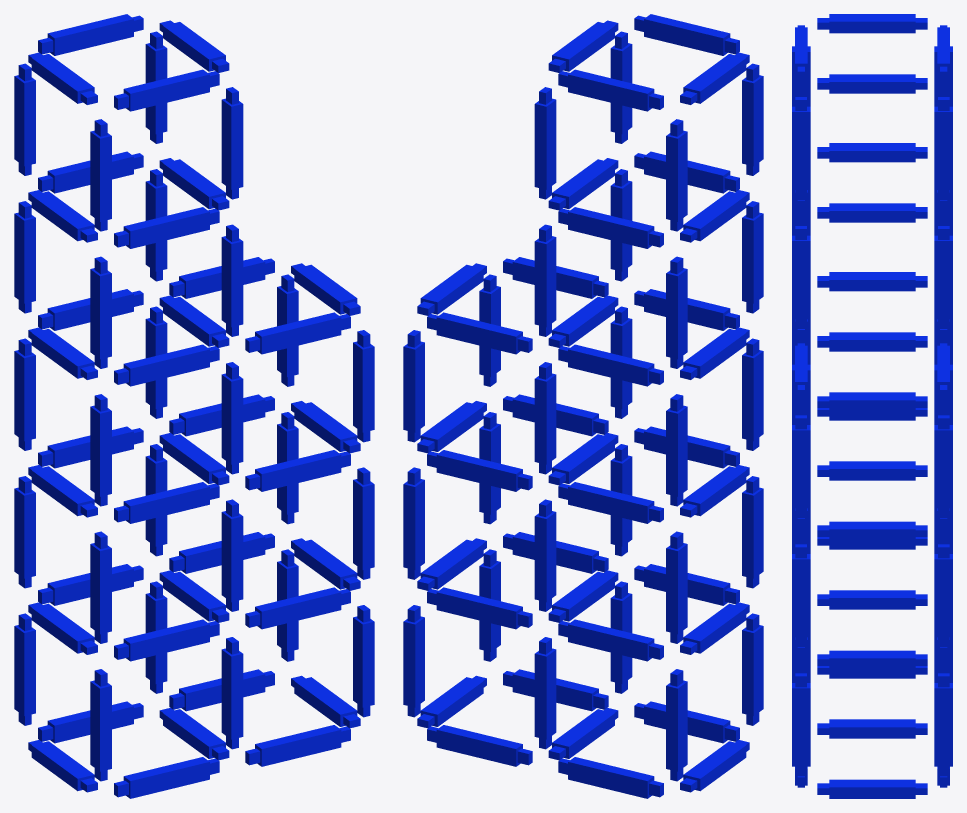
The model's file is initial_blue.obj.
3 renders of one model, left to right at view 1: azimuth 30°, elevation 25°; view 2: azimuth 150°, elevation 25°; view 3: azimuth 270°, elevation 25°, orthographic. The views are drawn at different scales.
Bounding box in the file's own units: 101 × 243 × 53.42.
